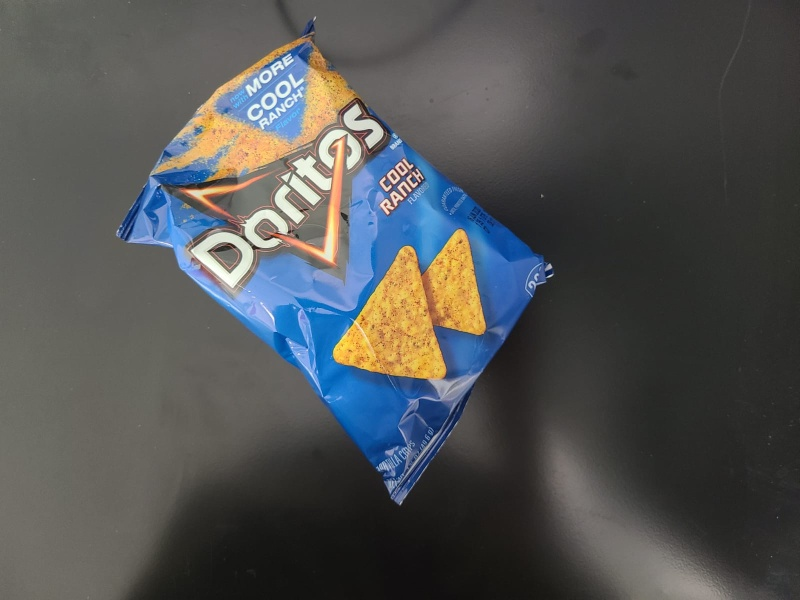doritos: (114, 18, 559, 506)
